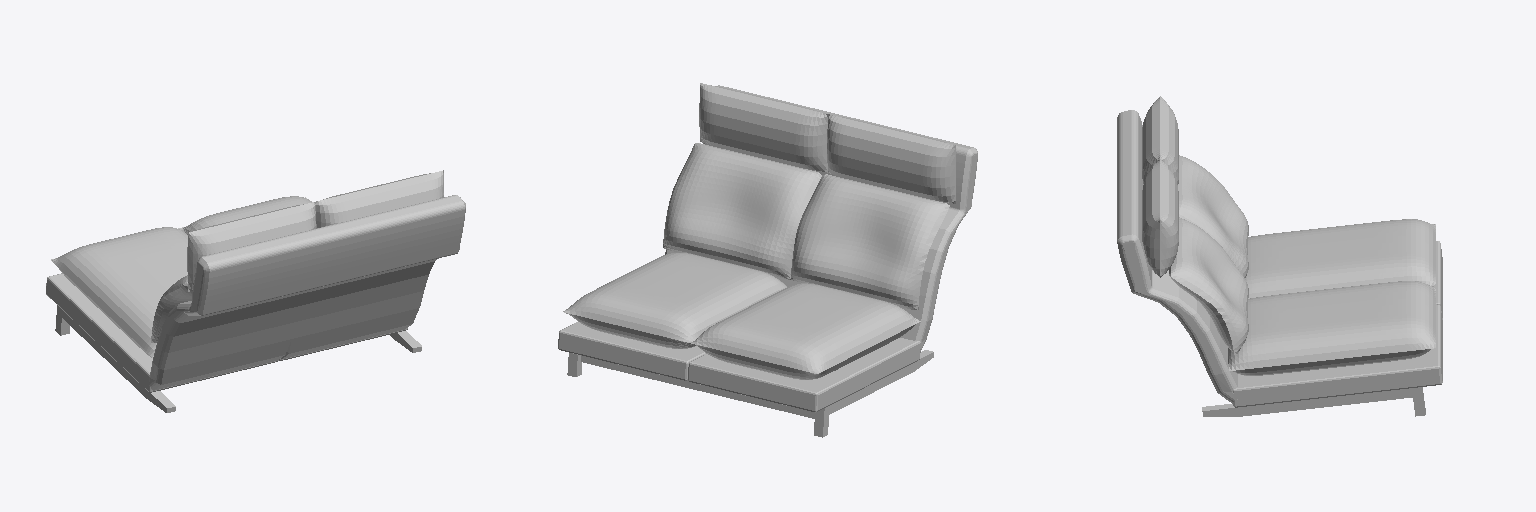
File: sofa.obj
The picture shows the model from 3 angles: view 1: azimuth 30°, elevation 25°; view 2: azimuth 150°, elevation 25°; view 3: azimuth 270°, elevation 25°; orthographic projection.
Visible parts, largest first — view 1: Line004, Line002, Surface010, Surface013, ChamferBox002, Surface006, Surface002, Line003, Surface012; view 2: Surface012, Surface005, Surface010, Surface002, Surface013, Surface006, ChamferBox002, Line004, ChamferBox001, Line003, Box001, Box005; view 3: Surface002, Surface010, Line002, ChamferBox001, Surface005, Surface012, Surface006, Surface013, Line001, Line004.
Part boxes in pixels (left/top/right/bottom): Line004: left=149, top=226, right=336, bottom=390; Line002: left=281, top=195, right=465, bottom=359; Surface010: left=51, top=227, right=187, bottom=357; Surface013: left=187, top=202, right=316, bottom=291; ChamferBox002: left=46, top=273, right=277, bottom=392; Surface006: left=316, top=170, right=443, bottom=227; Surface002: left=178, top=196, right=311, bottom=234; Line003: left=55, top=305, right=175, bottom=412; Surface012: left=151, top=275, right=192, bottom=342; Surface012: left=790, top=174, right=949, bottom=309; Surface005: left=663, top=143, right=821, bottom=279; Surface010: left=691, top=283, right=920, bottom=379; Surface002: left=563, top=253, right=786, bottom=348; Surface013: left=827, top=114, right=955, bottom=203; Surface006: left=699, top=83, right=827, bottom=172; ChamferBox002: left=688, top=338, right=920, bottom=412; Line004: left=794, top=117, right=977, bottom=352; ChamferBox001: left=558, top=322, right=705, bottom=380; Line003: left=814, top=350, right=933, bottom=437; Box001: left=581, top=355, right=699, bottom=390; Box005: left=699, top=385, right=829, bottom=421; Surface002: left=1228, top=281, right=1435, bottom=375; Surface010: left=1245, top=219, right=1435, bottom=298; Line002: left=1117, top=172, right=1237, bottom=403; ChamferBox001: left=1233, top=304, right=1442, bottom=407; Surface005: left=1169, top=217, right=1248, bottom=356; Surface012: left=1178, top=155, right=1248, bottom=277; Surface006: left=1142, top=159, right=1178, bottom=277; Surface013: left=1142, top=96, right=1178, bottom=184; Line001: left=1202, top=387, right=1425, bottom=416; Line004: left=1117, top=110, right=1143, bottom=186.
Bounding box in the file's own units: 920 × 657 × 986.